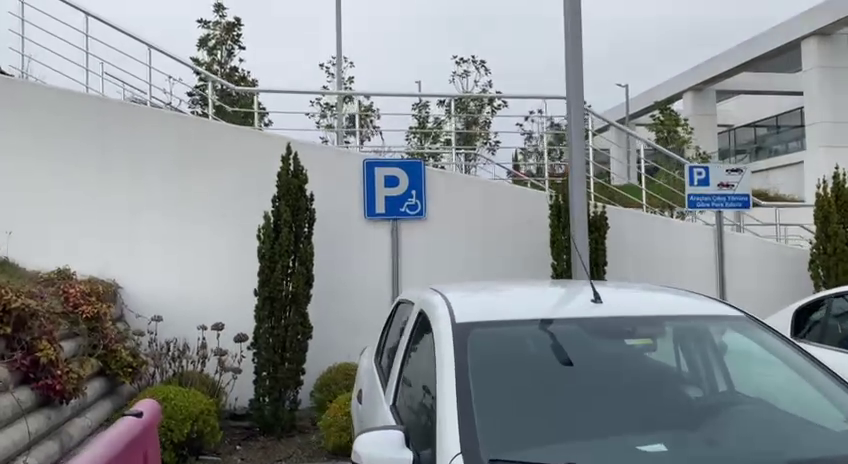parking: (362, 157, 427, 220), (687, 165, 712, 189)
